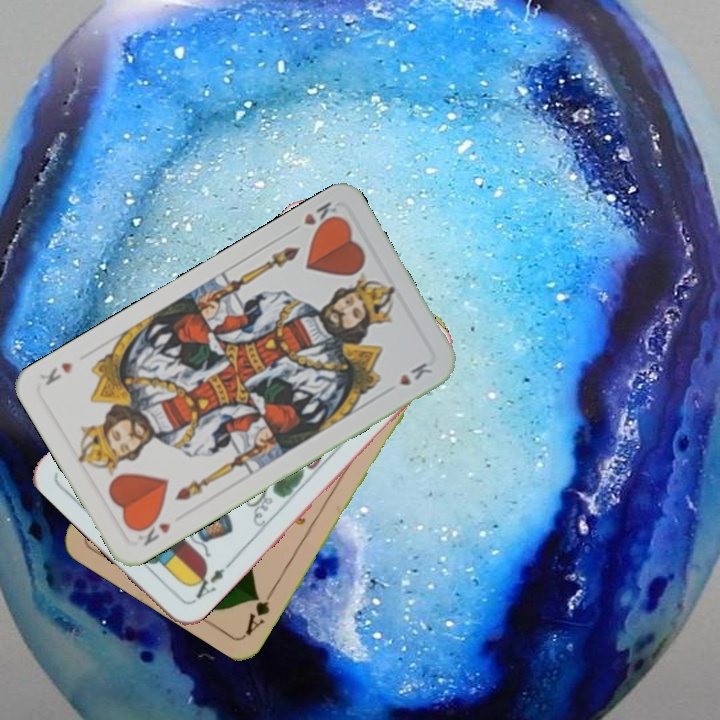EA: (185, 558, 233, 606)
GA: (241, 583, 278, 638)
HK: (285, 197, 343, 236), (131, 513, 174, 549)
